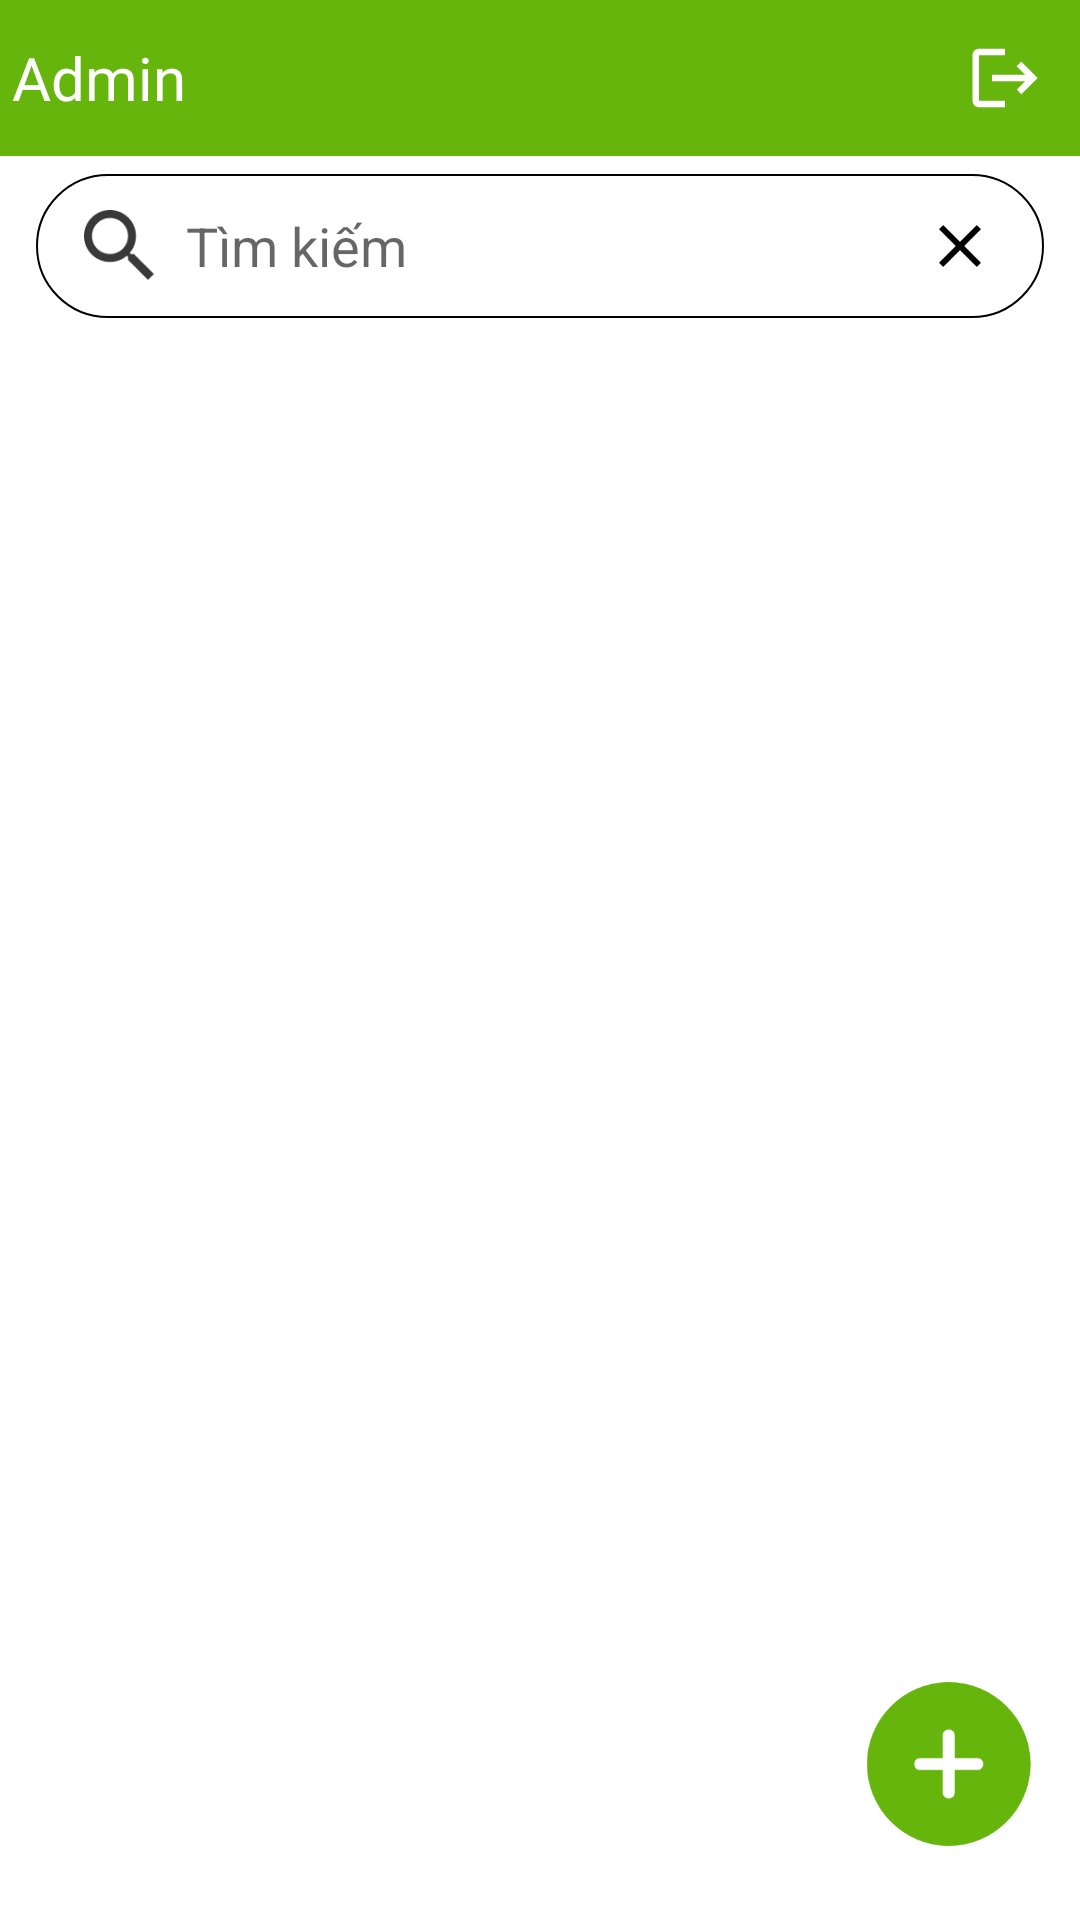

Icon bounding boxes for this 1080px×1920px phone screenshot, format BBox(x1, y1, x2, y2):
close: BBox(939, 225, 981, 267)
search: BBox(84, 210, 154, 280)
